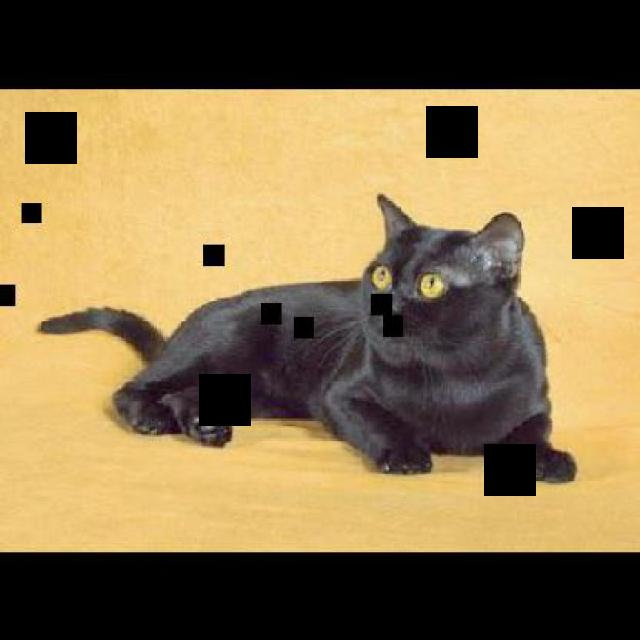unauthorized: (37, 191, 577, 483)
